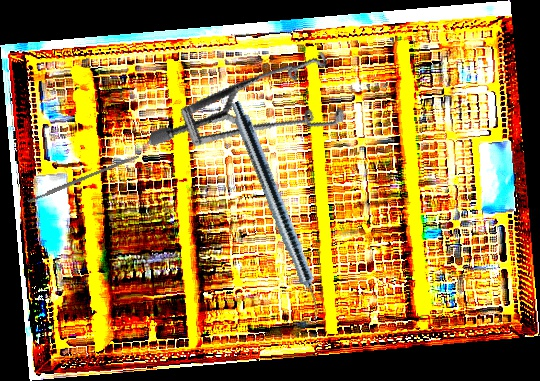Handpiece: (223, 99, 331, 322)
Scalpel Handle: (26, 153, 140, 204)
Speculum: (147, 11, 361, 197)
